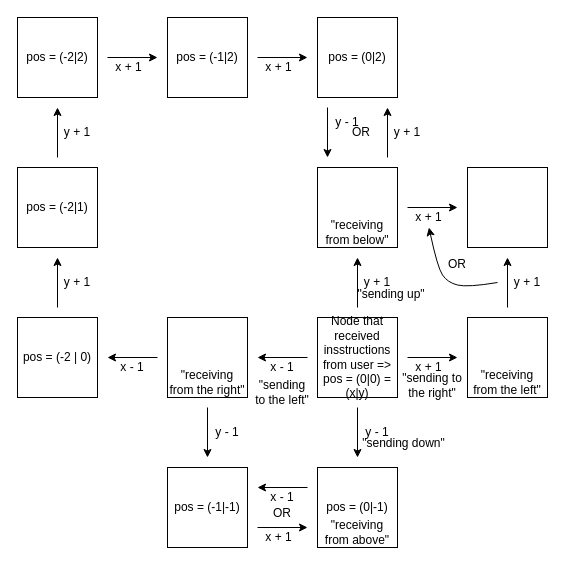
Image size: 575x575. Some labels were removed from this diagram. Here are the shapes that lost their labels. From the top down, the box of each, then its label:
(316, 166, 398, 248): pos = (0|1)
(466, 166, 548, 248): pos = (1|1)
(166, 316, 248, 398): pos = (-1|0)
(466, 316, 548, 398): pos = (1|0)
